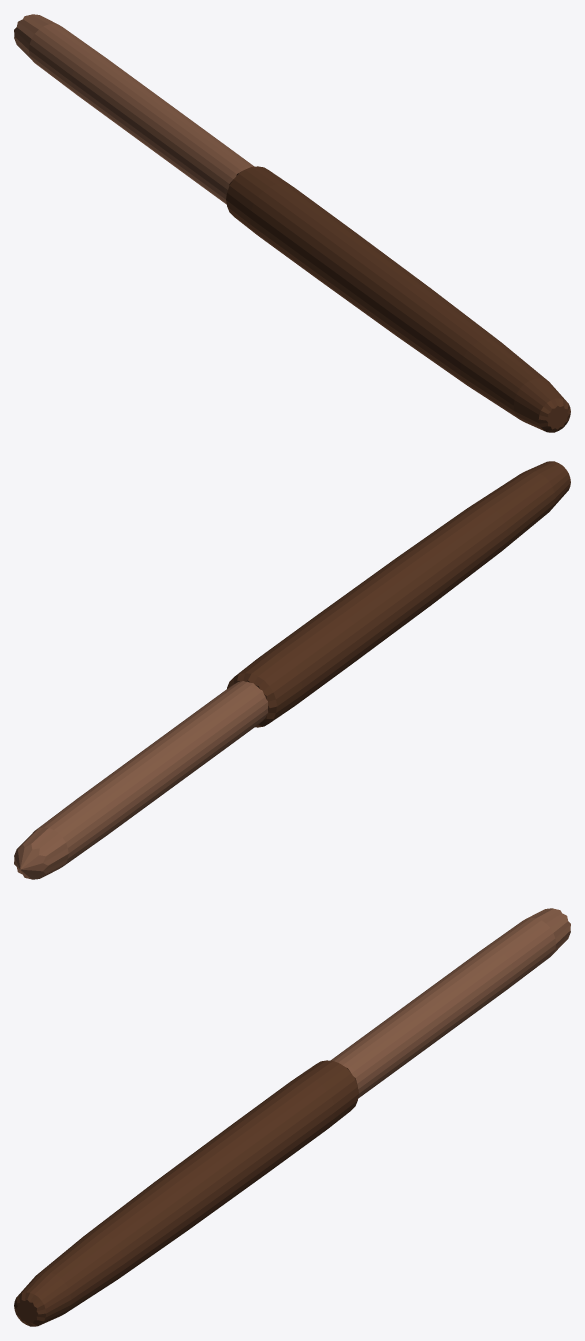
The model's file is Wand 5.glb.
3 views of the same model, one above another, from view 1: azimuth 30°, elevation 25°; view 2: azimuth 150°, elevation 25°; view 3: azimuth 330°, elevation 25° (orthographic).
Visible parts, largest first — view 1: GeneratedWand; view 2: GeneratedWand; view 3: GeneratedWand.
Part boxes in pixels (bbox=[...]): GeneratedWand: bbox=[14, 14, 570, 432]; GeneratedWand: bbox=[14, 461, 570, 879]; GeneratedWand: bbox=[14, 908, 570, 1326].
Bounding box in the file's own units: 0.0273 × 0.0273 × 0.4847.
